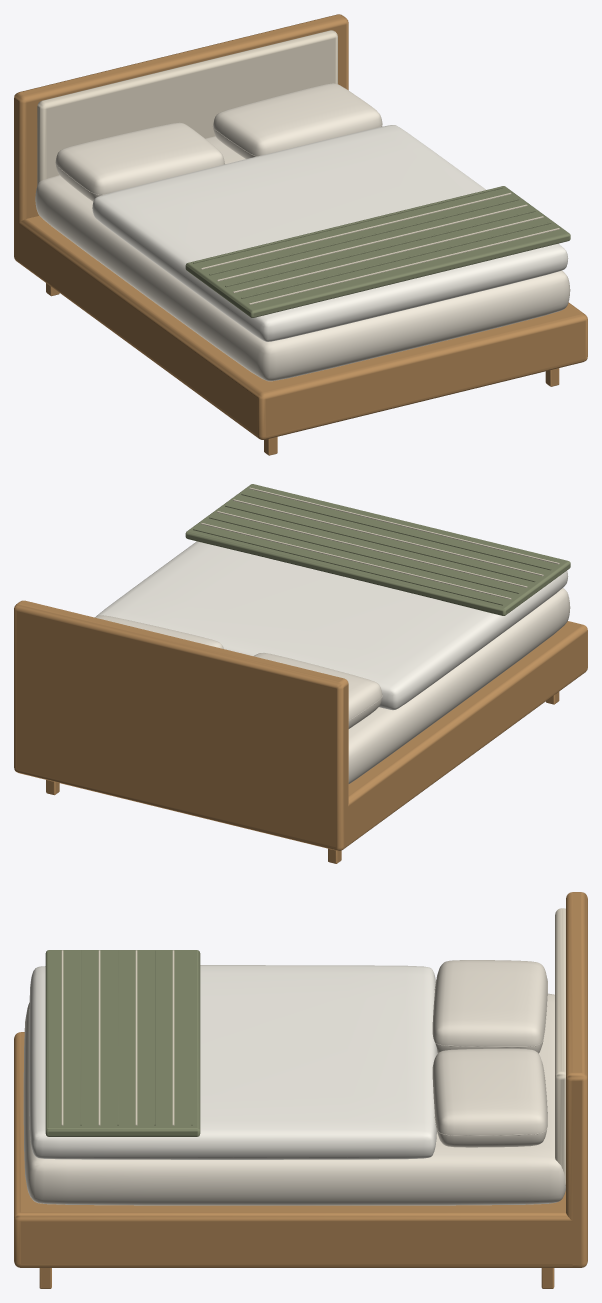
3 renders of one model, top to bottom at view 1: azimuth 30°, elevation 25°; view 2: azimuth 150°, elevation 25°; view 3: azimuth 270°, elevation 25°, orthographic. The views are drawn at different scales.
Visible parts, largest first — view 1: Duvet, Oak platform, Mattress, Sage bed throw, Upholstered headboard inset, Headboard, Cotton pillow, Cotton pillow.001, Throw stitched fold.003, Throw stitched fold.007, Throw stitched fold.006, Throw stitched fold.001 (+4 smaller); view 2: Headboard, Duvet, Sage bed throw, Oak platform, Mattress, Cotton pillow, Cotton pillow.001, Throw stitched fold, Throw stitched fold.002, Throw stitched fold.003, Throw stitched fold.004, Throw stitched fold.006 (+3 smaller); view 3: Duvet, Oak platform, Mattress, Sage bed throw, Cotton pillow.001, Cotton pillow, Headboard, Upholstered headboard inset, Throw stitched fold.001, Throw stitched fold.003, Throw stitched fold.005, Throw stitched fold.007.
Part boxes in pixels (x1,y1,x2,y2): Duvet: (92,125,568,341); Oak platform: (18,216,587,439); Mattress: (35,136,570,381); Sage bed throw: (185,186,570,317); Upholstered headboard inset: (37,30,337,184); Headboard: (14,14,348,262); Cotton pillow: (55,122,224,201); Cotton pillow.001: (213,83,382,158); Throw stitched fold.003: (217,204,527,281); Throw stitched fold.007: (249,228,559,304); Throw stitched fold.006: (241,222,551,298); Throw stitched fold.001: (201,192,511,269); Headboard: (14,600,348,850); Duvet: (96,541,568,710); Sage bed throw: (185,484,570,615); Oak platform: (347,621,587,846); Mattress: (348,588,570,783); Cotton pillow: (253,653,382,728); Cotton pillow.001: (94,615,223,648); Throw stitched fold: (193,529,503,605); Throw stitched fold.002: (209,517,519,593); Throw stitched fold.003: (217,511,527,587); Throw stitched fold.004: (225,505,535,581); Throw stitched fold.006: (241,493,551,570); Duvet: (29,965,437,1159); Oak platform: (14,1032,572,1267); Mattress: (23,993,565,1205); Sage bed throw: (45,950,200,1136); Cotton pillow.001: (432,1048,547,1147); Cotton pillow: (432,960,547,1053); Headboard: (566,892,587,1267); Upholstered headboard inset: (555,908,565,1185); Throw stitched fold.001: (172,950,174,1125); Throw stitched fold.003: (135,950,137,1125); Throw stitched fold.005: (98,950,100,1125); Throw stitched fold.007: (61,950,63,1125).
Size of the model in its own units: 1.59 by 0.9 by 2.08.
